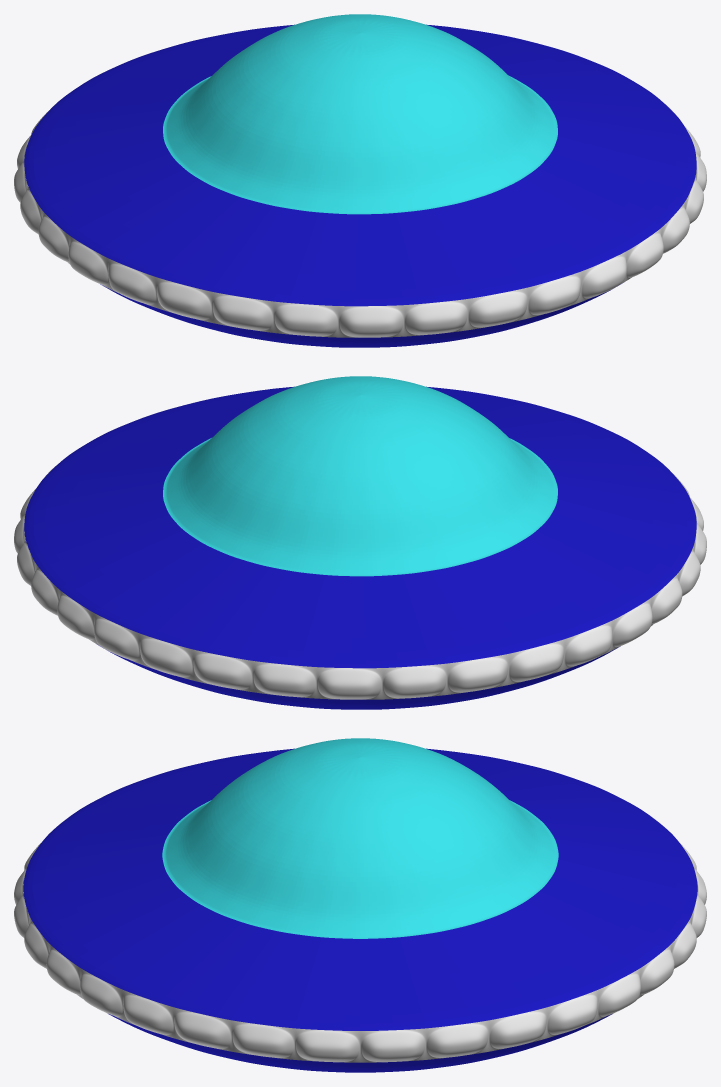
File: ufo.glb
3 views of the same model, one above another, from view 1: azimuth 30°, elevation 25°; view 2: azimuth 150°, elevation 25°; view 3: azimuth 270°, elevation 25° (orthographic).
Visible parts, largest first — view 1: ring, dome, lights, base; view 2: ring, dome, lights, base; view 3: ring, dome, lights, base.
Part boxes in pixels (left/top/right/bottom): ring: left=24, top=24, right=696, bottom=306; dome: left=163, top=14, right=557, bottom=214; lights: left=14, top=67, right=706, bottom=337; base: left=39, top=199, right=686, bottom=347; ring: left=24, top=386, right=696, bottom=668; dome: left=163, top=376, right=557, bottom=576; lights: left=14, top=429, right=706, bottom=699; base: left=34, top=561, right=681, bottom=709; ring: left=23, top=748, right=697, bottom=1030; dome: left=162, top=738, right=558, bottom=938; lights: left=14, top=807, right=706, bottom=1062; base: left=31, top=919, right=689, bottom=1072.
Size of the model in its own units: 0.4089 by 0.1702 by 0.4089.
